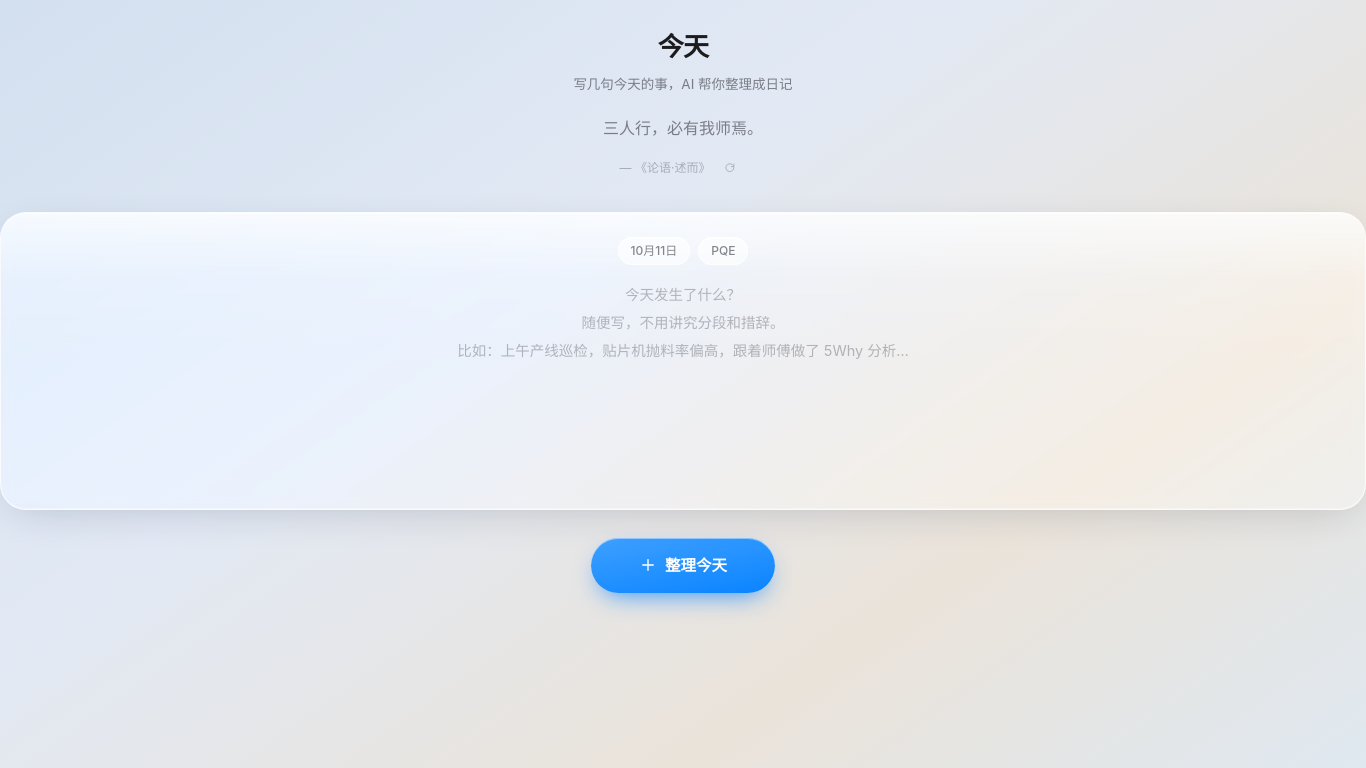
DiaryCreatePage 岗位选择器 › 选择预设后写入胶囊并关闭下拉
Expected: the text box with placeholder "今天发生了什么？ 随便写，不用讲究分段和措辞。 比如：上午产线巡检，贴片机抛料率偏高，跟着师傅做了 5Why 分析…" is shown, [29, 281, 1337, 479]
Click the button titled "点击选择岗位" at x=723, y=251, box [698, 237, 748, 265]
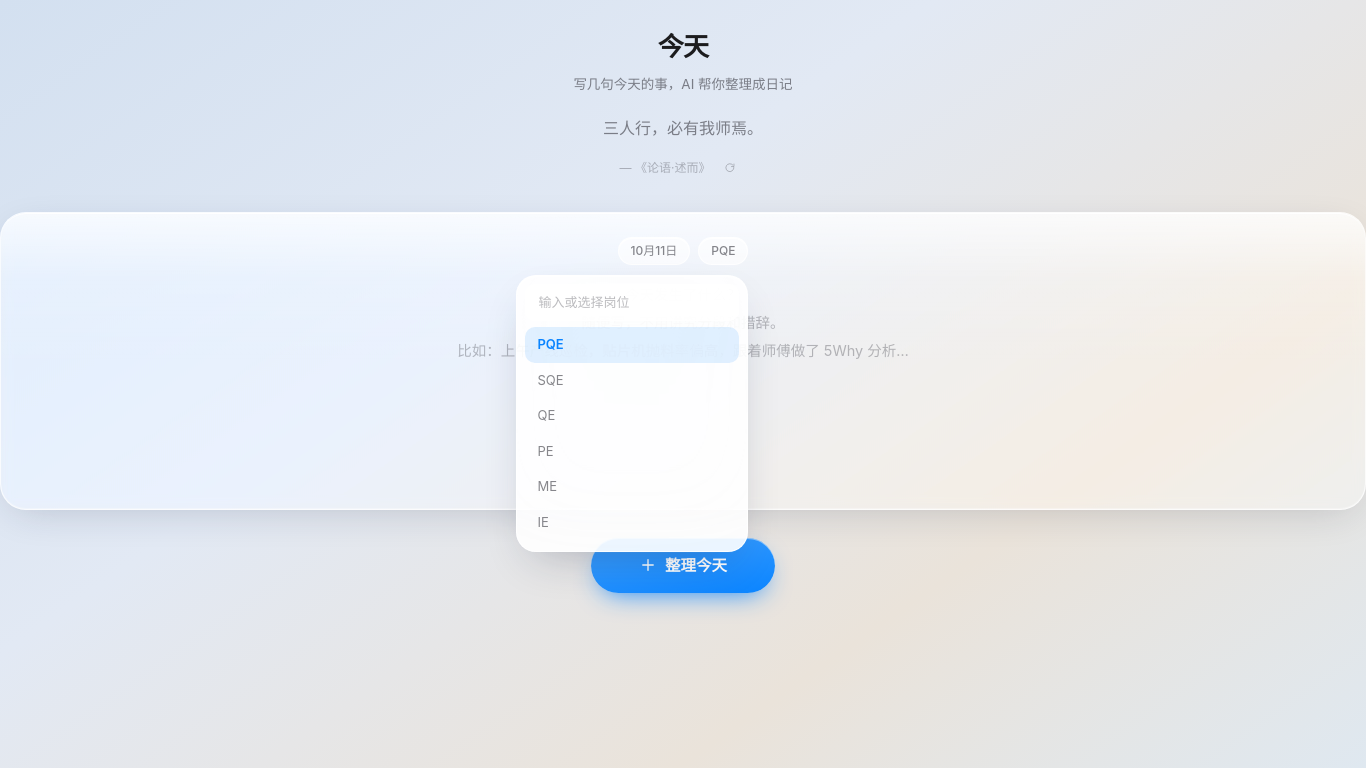
Click the button "SQE" at x=632, y=381, box [525, 363, 739, 398]
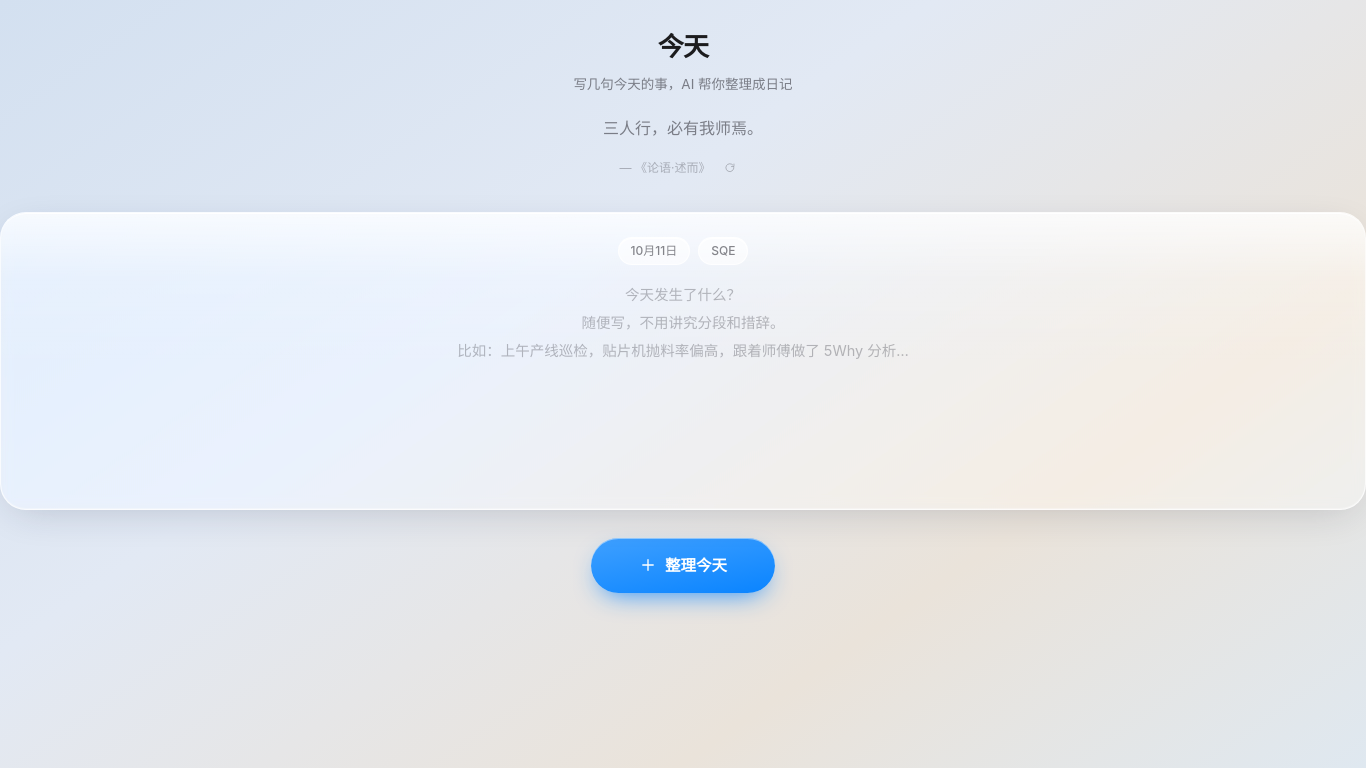
Expected: the field with placeholder "输入或选择岗位" is gone
Expected: the button titled "点击选择岗位" reads "SQE", [698, 237, 748, 265]
